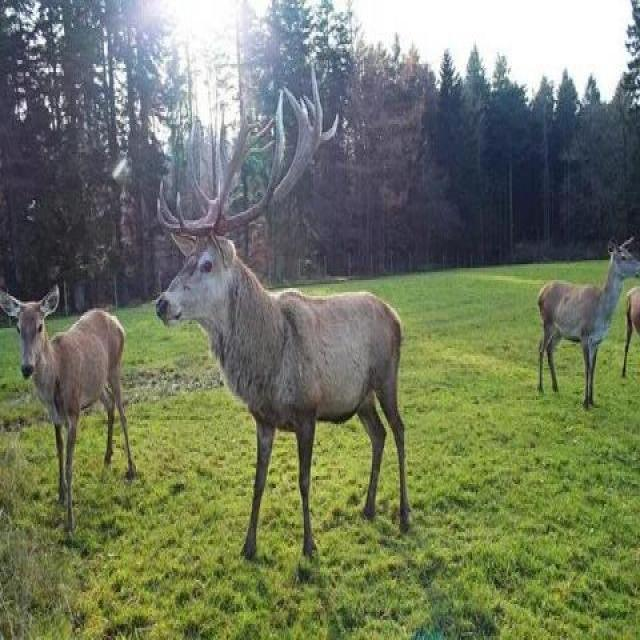deer: (123, 175, 535, 554), (13, 247, 191, 450), (525, 202, 640, 434)
